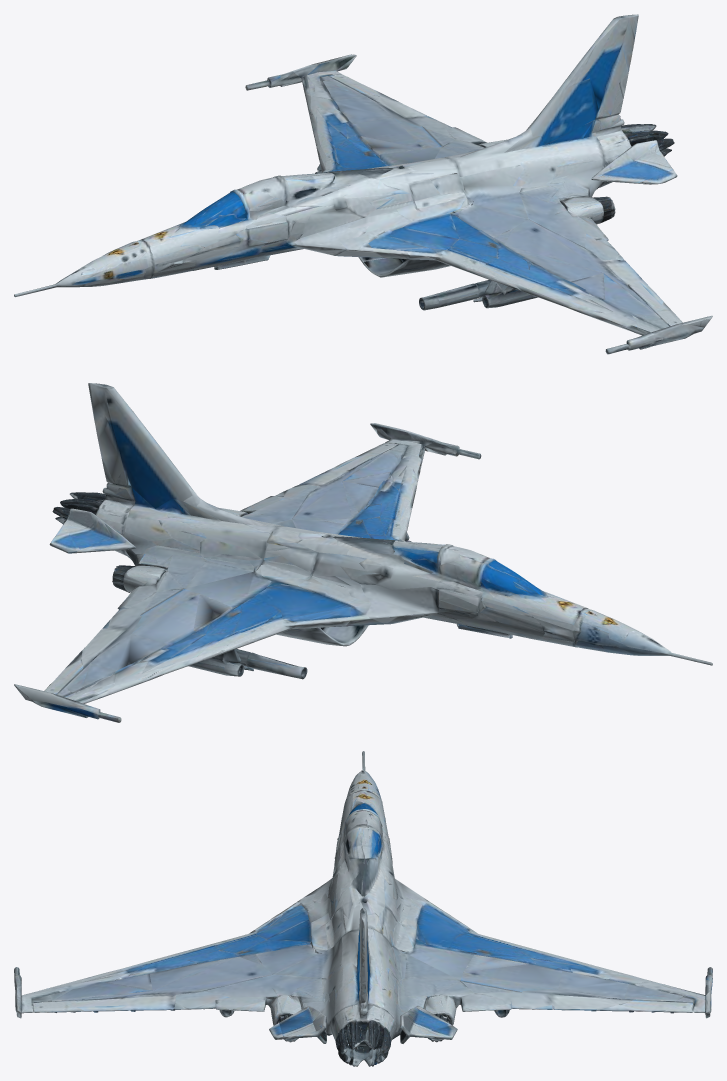
Rendered from fed_hero_longshot_alt.glb.
3 renders of one model, top to bottom at view 1: azimuth 30°, elevation 25°; view 2: azimuth 150°, elevation 25°; view 3: azimuth 270°, elevation 25°, orthographic. The views are drawn at different scales.
Bounding box in the file's own units: 1.9 × 0.5002 × 1.85.
1 material, 1 textured.
